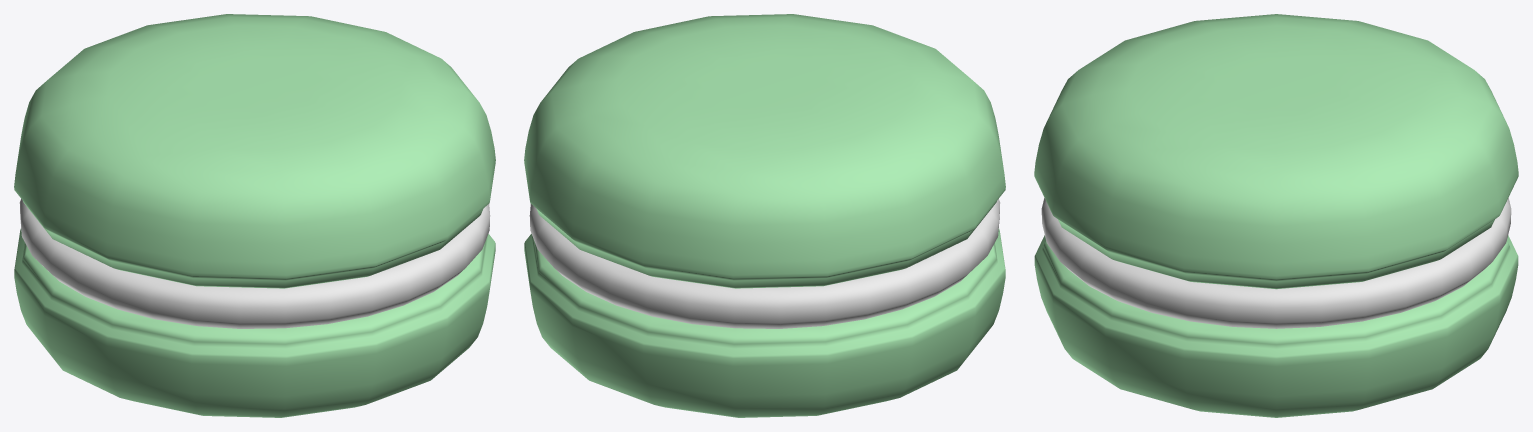
Rendered from macarong.fbx.
3 renders of one model, left to right at view 1: azimuth 30°, elevation 25°; view 2: azimuth 150°, elevation 25°; view 3: azimuth 270°, elevation 25°, orthographic.
Parts seen in each view (by area): view 1: Macaron.Green; view 2: Macaron.Green; view 3: Macaron.Green.
Boxes of the visible parts, x1,y1,x2,y2 form: Macaron.Green: (14, 14, 495, 417); Macaron.Green: (524, 14, 1005, 417); Macaron.Green: (1034, 14, 1518, 417).
Bounding box in the file's own units: 11.6 × 7.04 × 11.6.
